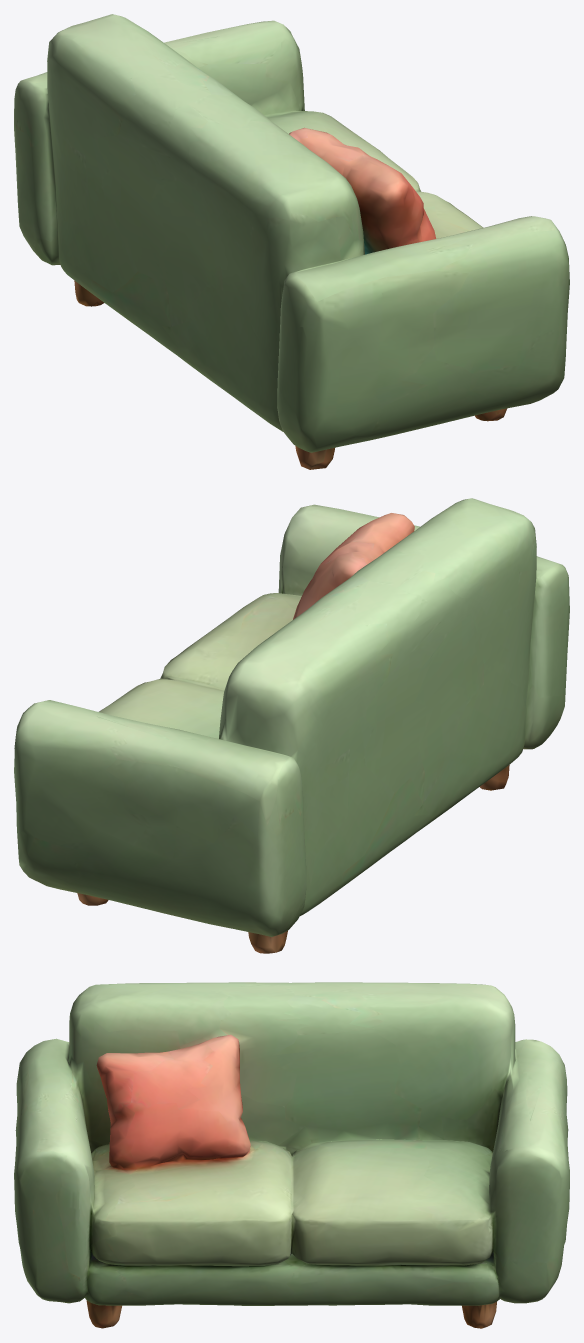
File: sofa.glb
3 renders of one model, top to bottom at view 1: azimuth 30°, elevation 25°; view 2: azimuth 150°, elevation 25°; view 3: azimuth 270°, elevation 25°, orthographic. The views are drawn at different scales.
Parts seen in each view (by area): view 1: tripo_node_d4845174-e431-4356-a188-1a7623dc8676; view 2: tripo_node_d4845174-e431-4356-a188-1a7623dc8676; view 3: tripo_node_d4845174-e431-4356-a188-1a7623dc8676.
Boxes of the visible parts, box(x1,y1,x2,y2) form: tripo_node_d4845174-e431-4356-a188-1a7623dc8676: box(14, 14, 569, 469); tripo_node_d4845174-e431-4356-a188-1a7623dc8676: box(14, 498, 569, 953); tripo_node_d4845174-e431-4356-a188-1a7623dc8676: box(14, 982, 569, 1328).
Bounding box in the file's own units: 0.5196 × 0.5064 × 1.
Materials: 1 (1 with a texture image).
